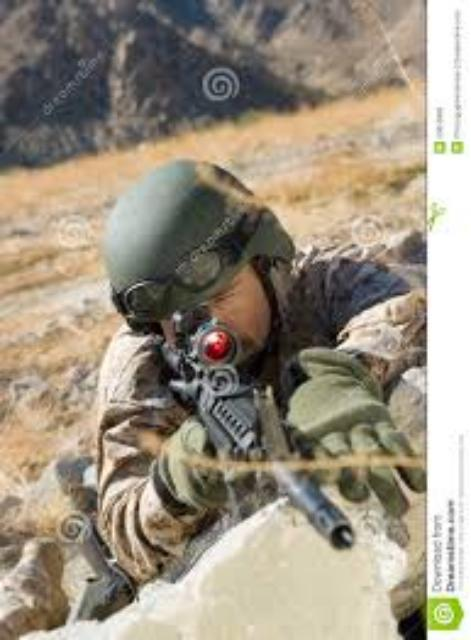other: (91, 169, 424, 569)
